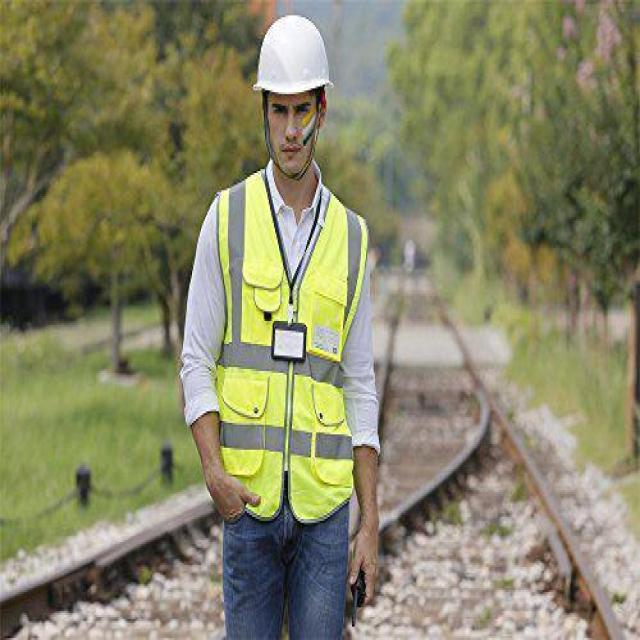helmet: (252, 14, 334, 94)
